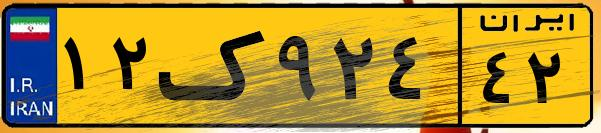1: (57, 26, 110, 100)
2: (330, 28, 385, 110), (525, 38, 570, 115), (110, 28, 158, 98)
4: (385, 28, 445, 110), (475, 38, 525, 113)
9: (270, 28, 330, 110)
ک: (158, 12, 270, 120)
